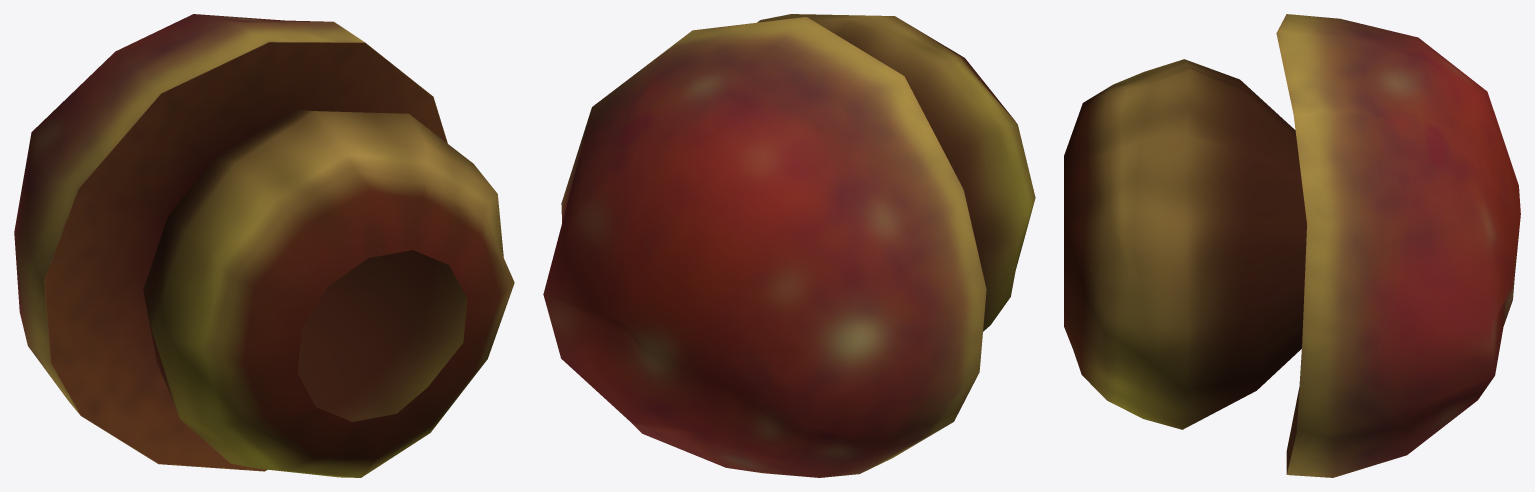
File: PennyBunFat.fbx
3 views of the same model, side by side, from view 1: azimuth 30°, elevation 25°; view 2: azimuth 150°, elevation 25°; view 3: azimuth 270°, elevation 25° (orthographic). The views are drawn at different scales.
Parts seen in each view (by area): view 1: PennyBunLP.001; view 2: PennyBunLP.001; view 3: PennyBunLP.001.
Boxes of the visible parts, bbox=[...] form: PennyBunLP.001: bbox=[14, 14, 514, 477]; PennyBunLP.001: bbox=[543, 14, 1035, 477]; PennyBunLP.001: bbox=[1064, 14, 1520, 477].
Size of the model in its own units: 72.45 by 73.65 by 72.07.
